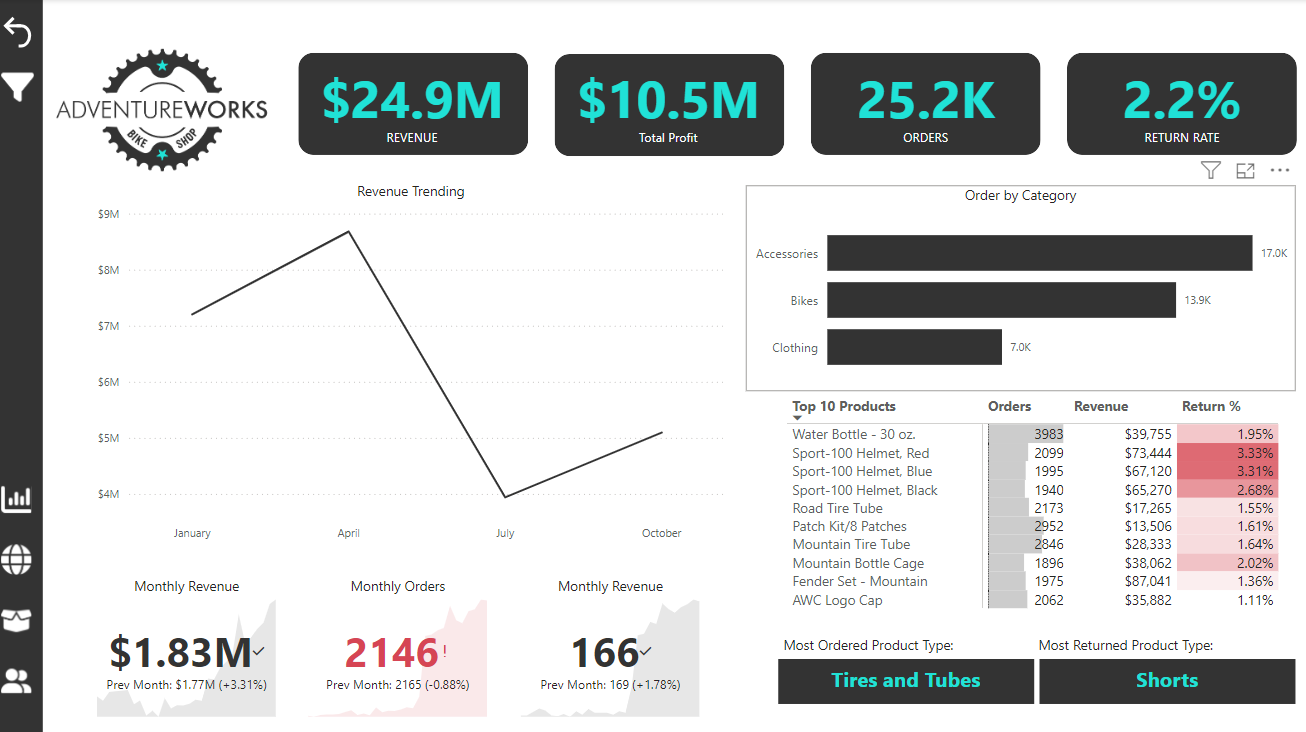

This screenshot's page, from the dashboard's own definition file:
{"tool":"powerbi","page":{"name":"Exec Dashboard","canvas":[1280,720],"ordinal":0},"visuals":[{"type":"image","title":"AW Logo","box":[30,33.8,262.5,148.8],"z":0},{"type":"shape","box":[294.1,52.6,225,100],"z":0,"group":"g1"},{"type":"actionButton","box":[0,470.8,53.8,37.9],"z":0,"group":"g2"},{"type":"shape","title":"Left Nav Background","box":[0,0,45,720],"z":1000},{"type":"shape","box":[544.9,53.8,225,100],"z":1000,"group":"g1"},{"type":"actionButton","box":[0,529.9,53.8,37.9],"z":1000,"group":"g2"},{"type":"group","id":"g1","title":"KPI Backgrounds","box":[294.1,52.6,977.5,101.2],"z":2000},{"type":"shape","box":[795.8,52.6,225,100],"z":2000,"group":"g1"},{"type":"actionButton","box":[0,589,53.8,37.9],"z":2000,"group":"g2"},{"type":"card","fields":{"Values":["Measure Table.Total Revenue"]},"box":[284.1,40.1,245,125],"z":3000},{"type":"shape","box":[1046.6,52.6,225,100],"z":3000,"group":"g1"},{"type":"actionButton","box":[0,648.1,53.8,37.9],"z":3000,"group":"g2"},{"type":"lineChart","title":"Revenue Trending","fields":{"Y":["Measure Table.Total Revenue"],"Category":["Calendar Lookup.Year","Calendar Lookup.Start of Quarter.Variation.Date Hierarchy.Year","Calendar Lookup.Start of Quarter.Variation.Date Hierarchy.Month","Calendar Lookup.Start of Month.Variation.Date Hierarchy.Year","Calendar Lookup.Start of Month.Variation.Date Hierarchy.Month"]},"box":[92.5,178.8,623.8,361.2],"z":4000},{"type":"card","fields":{"Values":["Measure Table.Total Profit"]},"box":[535,40.1,245,125],"z":5000},{"type":"kpi","title":"Monthly Revenue","fields":{"Indicator":["Measure Table.Total Revenue"],"TrendLine":["Calendar Lookup.Start of Month"],"Goal":["Measure Table.Previous Month Revenue"]},"box":[92.5,565,185,142.5],"z":6000},{"type":"card","fields":{"Values":["Measure Table.Total Orders"]},"box":[785.8,40.1,245,125],"z":7000},{"type":"kpi","title":"Monthly Orders","fields":{"TrendLine":["Calendar Lookup.Start of Month"],"Indicator":["Measure Table.Total Orders"],"Goal":["Measure Table.Previous Month Orders"]},"box":[300,565,185,142.5],"z":8000},{"type":"card","fields":{"Values":["Measure Table.Return Rate"]},"box":[1036.6,40.1,245,125],"z":9000},{"type":"kpi","title":"Monthly Revenue","fields":{"TrendLine":["Calendar Lookup.Start of Month"],"Indicator":["Measure Table.Total Returns"],"Goal":["Measure Table.Previous Month Return"]},"box":[507.5,565,185,142.5],"z":10000},{"type":"barChart","title":"Order by Category","fields":{"Category":["Product Category Lookup.CategoryName"],"Y":["Measure Table.Total Orders"]},"box":[732.5,182.5,537.5,201.2],"z":11000},{"type":"pivotTable","fields":{"Rows":["Product Lookup.ProductName"],"Values":["Measure Table.Total Orders","Measure Table.Total Revenue","Measure Table.Return Rate"]},"box":[767.9,384,492.8,218.9],"z":12000},{"type":"card","fields":{"Values":["Min(Product Subcategories Lookup.SubcategoryName)"]},"box":[763.7,645.7,250.3,44.1],"z":13000},{"type":"textbox","box":[763.7,617.2,199.1,35.6],"z":14000},{"type":"textbox","box":[1014,617.2,196.3,35.6],"z":15000},{"type":"card","fields":{"Values":["Min(Product Subcategories Lookup.SubcategoryName)"]},"box":[1019.7,645.7,250.3,44.1],"z":16000},{"type":"actionButton","box":[0,12.2,45.2,40.4],"z":17000},{"type":"group","id":"g2","title":"Page Navigation Buttons","box":[0,470.8,53.8,215.2],"z":18000},{"type":"actionButton","box":[0,66,45.2,40.4],"z":19000}]}

Visuals, with their boxes on the page's 1280x720 design canvas (x1, y1, x2, y2). These are canvas units, not pixel positions in the 1306x732 screenshot, which may show the page scaled, cropped or inside an application window:
"AW Logo" image: bbox=[30, 34, 292, 183]
shape: bbox=[294, 53, 519, 153]
actionButton: bbox=[0, 471, 54, 509]
"Left Nav Background" shape: bbox=[0, 0, 45, 720]
shape: bbox=[545, 54, 770, 154]
actionButton: bbox=[0, 530, 54, 568]
"KPI Backgrounds" group: bbox=[294, 53, 1272, 154]
shape: bbox=[796, 53, 1021, 153]
actionButton: bbox=[0, 589, 54, 627]
card - Measure Table.Total Revenue: bbox=[284, 40, 529, 165]
shape: bbox=[1047, 53, 1272, 153]
actionButton: bbox=[0, 648, 54, 686]
"Revenue Trending" lineChart: bbox=[92, 179, 716, 540]
card - Measure Table.Total Profit: bbox=[535, 40, 780, 165]
"Monthly Revenue" kpi: bbox=[92, 565, 278, 708]
card - Measure Table.Total Orders: bbox=[786, 40, 1031, 165]
"Monthly Orders" kpi: bbox=[300, 565, 485, 708]
card - Measure Table.Return Rate: bbox=[1037, 40, 1282, 165]
"Monthly Revenue" kpi: bbox=[508, 565, 692, 708]
"Order by Category" barChart: bbox=[732, 182, 1270, 384]
pivotTable - Product Lookup.ProductName x Measure Table.Total Orders: bbox=[768, 384, 1261, 603]
card - Min(Product Subcategories Lookup.SubcategoryName): bbox=[764, 646, 1014, 690]
textbox: bbox=[764, 617, 963, 653]
textbox: bbox=[1014, 617, 1210, 653]
card - Min(Product Subcategories Lookup.SubcategoryName): bbox=[1020, 646, 1270, 690]
actionButton: bbox=[0, 12, 45, 53]
"Page Navigation Buttons" group: bbox=[0, 471, 54, 686]
actionButton: bbox=[0, 66, 45, 106]
